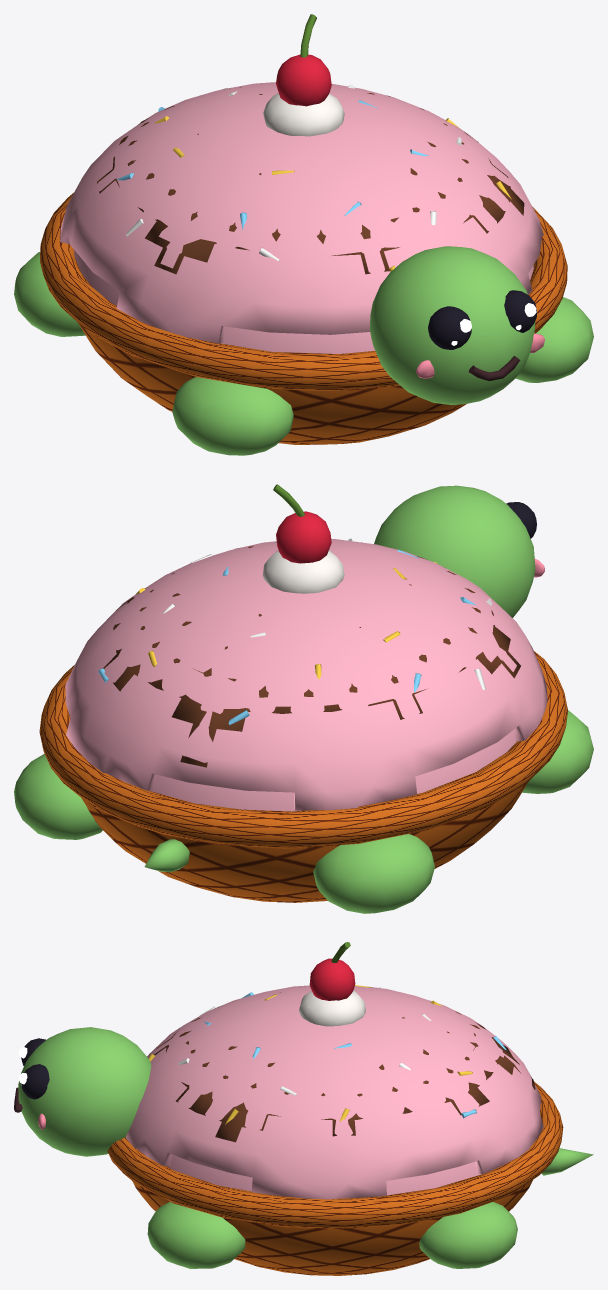
File: pilot_skilpadde_is_lav.glb
3 renders of one model, top to bottom at view 1: azimuth 30°, elevation 25°; view 2: azimuth 150°, elevation 25°; view 3: azimuth 270°, elevation 25°, orthographic. The views are drawn at different scales.
Visible parts, largest first — view 1: kropp, hode, bein_vf, bein_hf, bein_vb; view 2: kropp, hode, bein_vb, bein_hb, bein_vf, hale; view 3: kropp, hode, bein_hb, bein_hf, hale.
Boxes of the visible parts, box(x1,y1,x2,y2) form: kropp: box(40, 14, 567, 444); hode: box(370, 246, 544, 404); bein_vf: box(172, 377, 293, 455); bein_hf: box(515, 297, 593, 382); bein_vb: box(14, 252, 85, 336); kropp: box(39, 484, 567, 902); hode: box(374, 485, 544, 617); bein_vb: box(313, 834, 434, 913); bein_hb: box(14, 754, 102, 839); bein_vf: box(522, 710, 593, 793); hale: box(144, 839, 189, 872); kropp: box(107, 942, 563, 1275); hode: box(14, 1027, 151, 1156); bein_hb: box(419, 1202, 517, 1268); bein_hf: box(147, 1201, 245, 1268); hale: box(541, 1148, 593, 1175).
Bounding box in the file's own units: 1.39 × 1.14 × 1.9.
14 materials, 1 textured.
